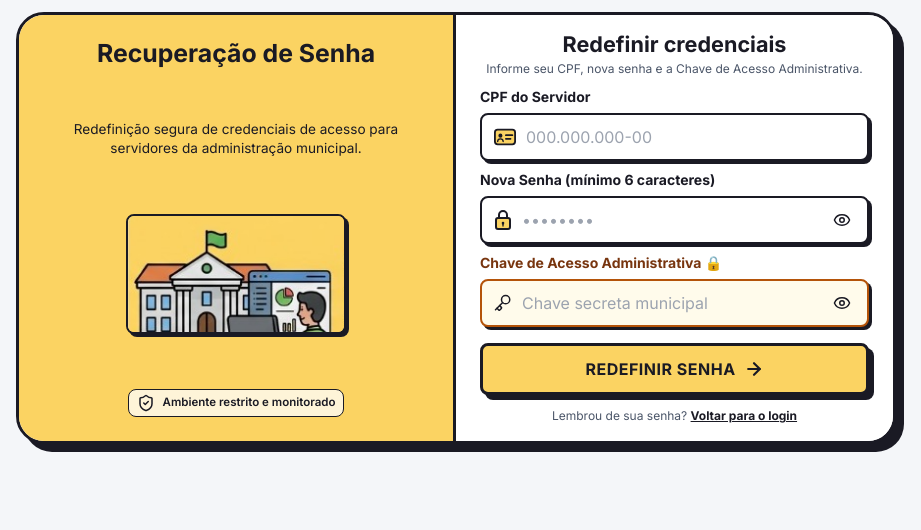
Test case: Página RecuperarSenhaPrefeitura (/esqueci-senha/prefeitura) › deve exigir Chave de Acesso Administrativa para redefinir a senha
Type "11122233344" into the field labelled "CPF do Servidor" at (690, 137), box [526, 115, 855, 159]
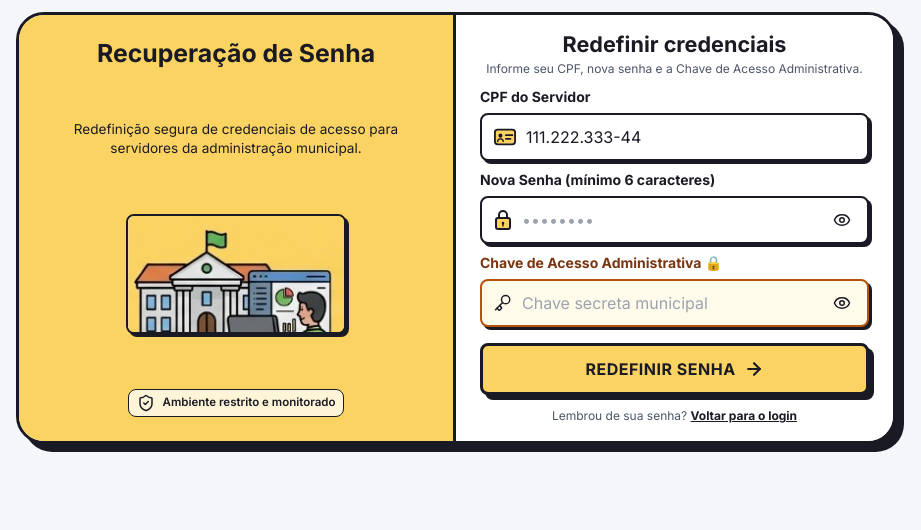
Type "novaSenha123" into the password field labelled "Nova Senha (mínimo 6 caracteres)" at (676, 220), box [522, 198, 829, 242]
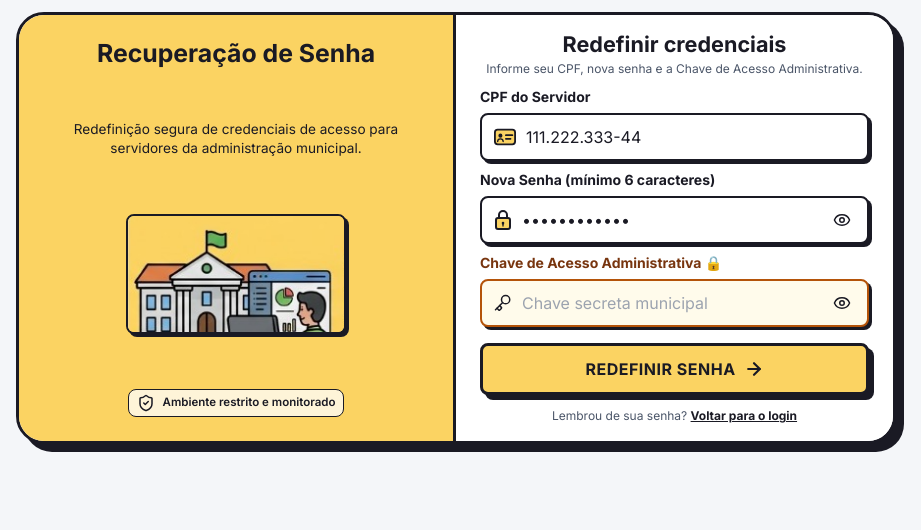
Click the button with aria-label "Confirmar alteração de senha do servidor" at (674, 369), box [480, 343, 869, 395]
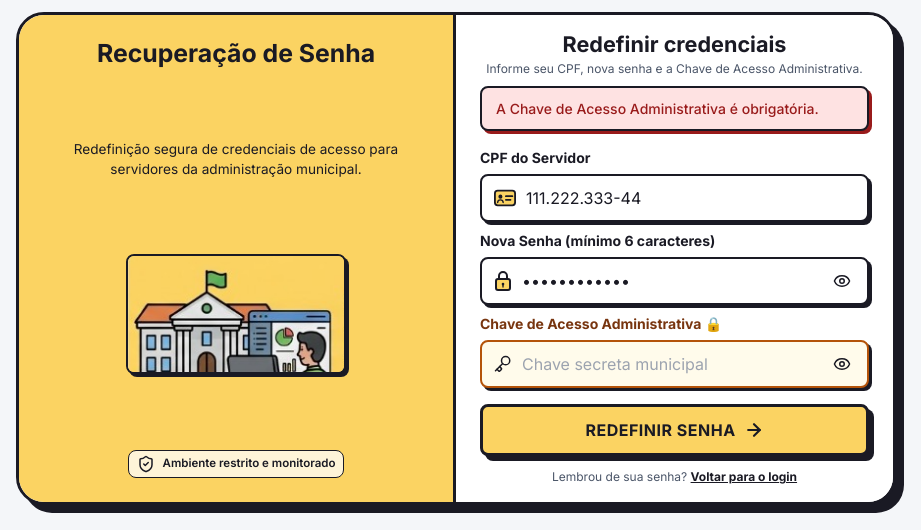
Check: the text "A Chave de Acesso Administrativa é obrigatória." is shown, box [480, 86, 869, 131]
